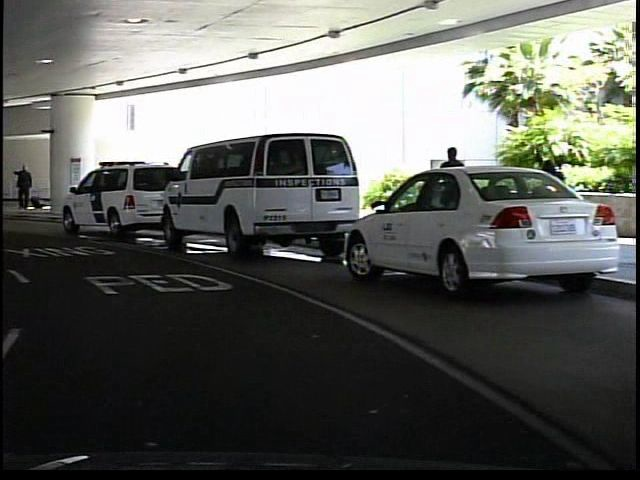person: (432, 142, 464, 250), (9, 155, 36, 215)
